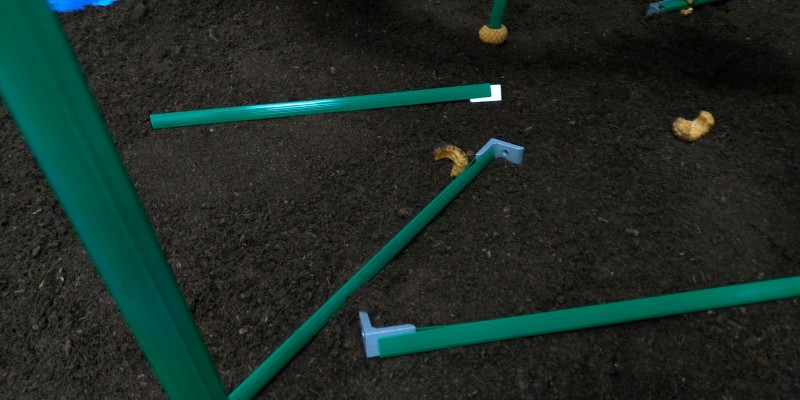eggs: (427, 138, 472, 183), (667, 104, 717, 142), (473, 19, 515, 46), (678, 1, 696, 18)
